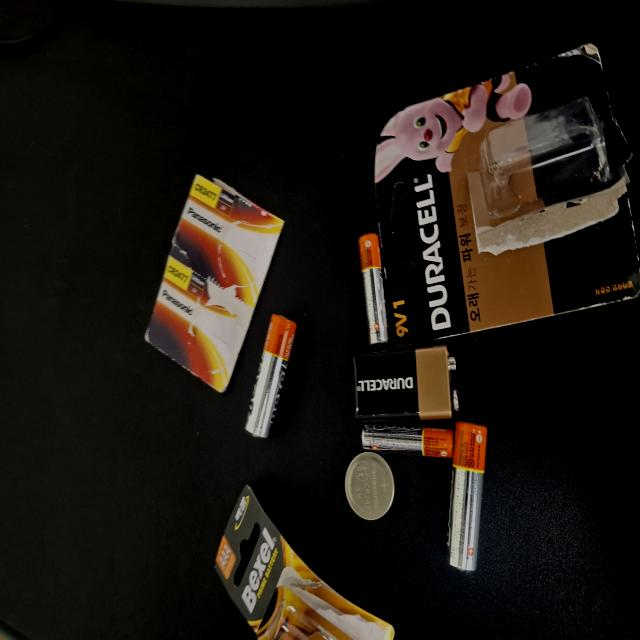9V: (163, 471, 221, 612)
AA: (152, 327, 244, 396), (51, 598, 163, 640)
AAA: (221, 478, 305, 518), (136, 482, 162, 605)
COIN: (90, 460, 140, 526)
